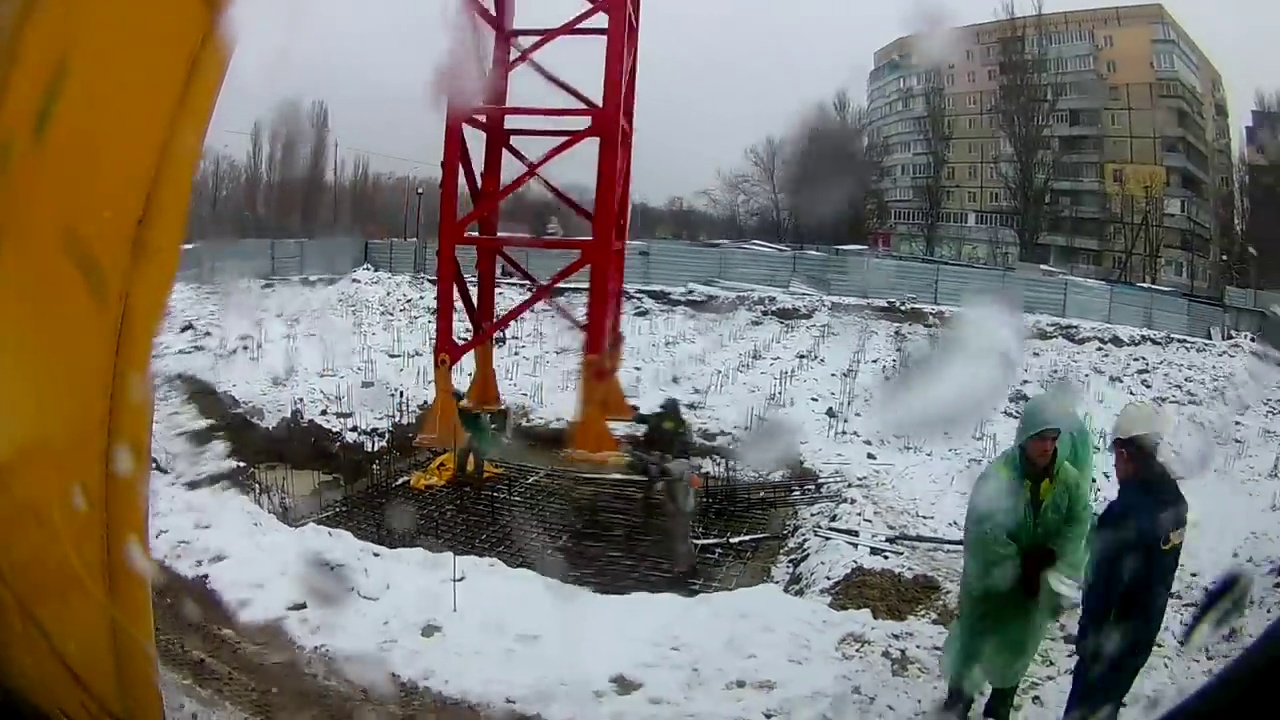helmet: (1105, 402, 1172, 449)
helmet-off: (1009, 417, 1067, 478)
helmet-on: (1105, 398, 1173, 482)
person: (930, 414, 1083, 720), (1058, 398, 1187, 720), (648, 430, 702, 577)
